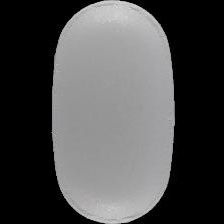55289-611: (0, 0, 224, 224)
